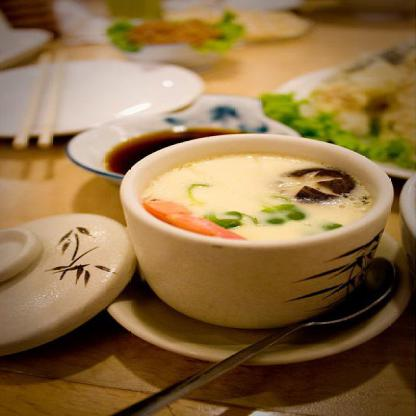Kaithoon: (152, 148, 373, 256)
